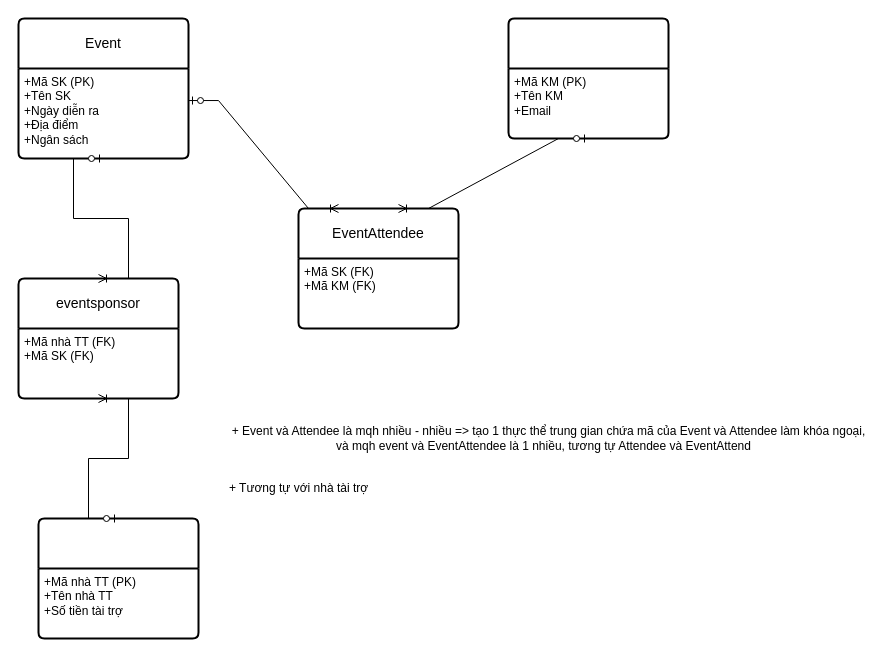
The diagram is 895 pixels wide and 656 high, and some of its shapes have lost their labels. Here are the shapes that lost their labels. From the top down, the box of each, then its label:
(507, 17, 669, 139): Attendee
(37, 517, 199, 639): Sponsor
